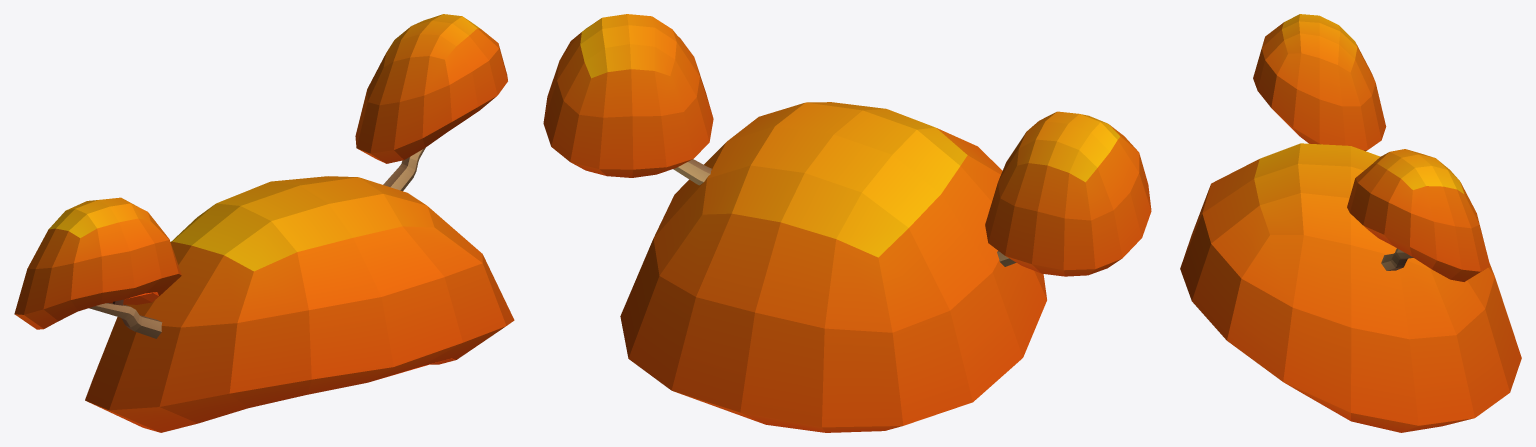
The model's file is CeilingTree.fbx.
3 renders of one model, left to right at view 1: azimuth 30°, elevation 25°; view 2: azimuth 150°, elevation 25°; view 3: azimuth 270°, elevation 25°, orthographic. The views are drawn at different scales.
Visible parts, largest first — view 1: TreeHome_LOD0; view 2: TreeHome_LOD0; view 3: TreeHome_LOD0.
Boxes of the visible parts, bbox=[...] form: TreeHome_LOD0: bbox=[14, 14, 514, 432]; TreeHome_LOD0: bbox=[543, 14, 1151, 432]; TreeHome_LOD0: bbox=[1180, 14, 1521, 432].
Bounding box in the file's own units: 1603 × 974 × 978.
